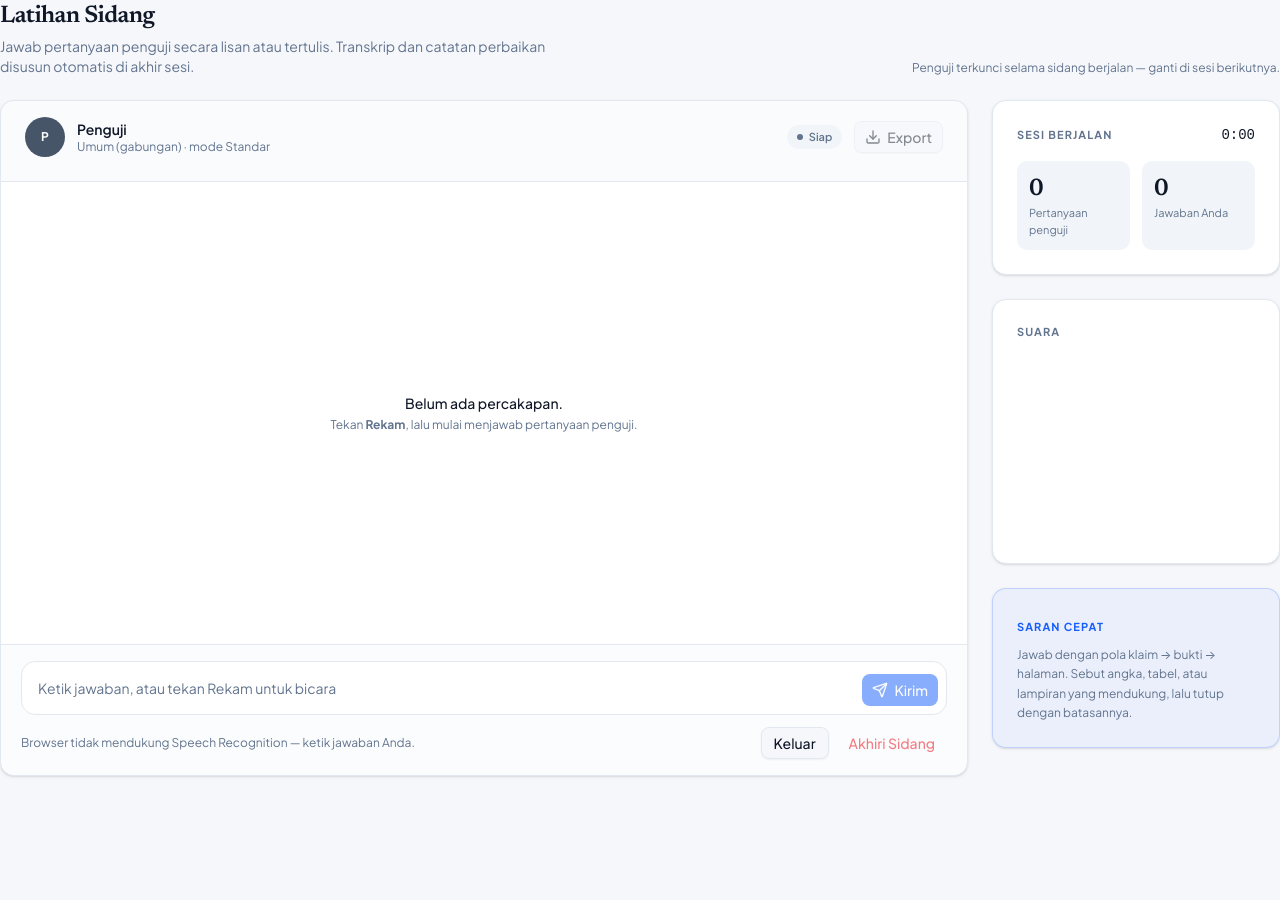
SessionPage › offers closing as a banner, never a modal that covers the examiner's last reply
Type "jawaban" into the text box with placeholder "Ketik jawaban, atau tekan Rekam untuk bicara" at (442, 688), box [30,670,854,706]
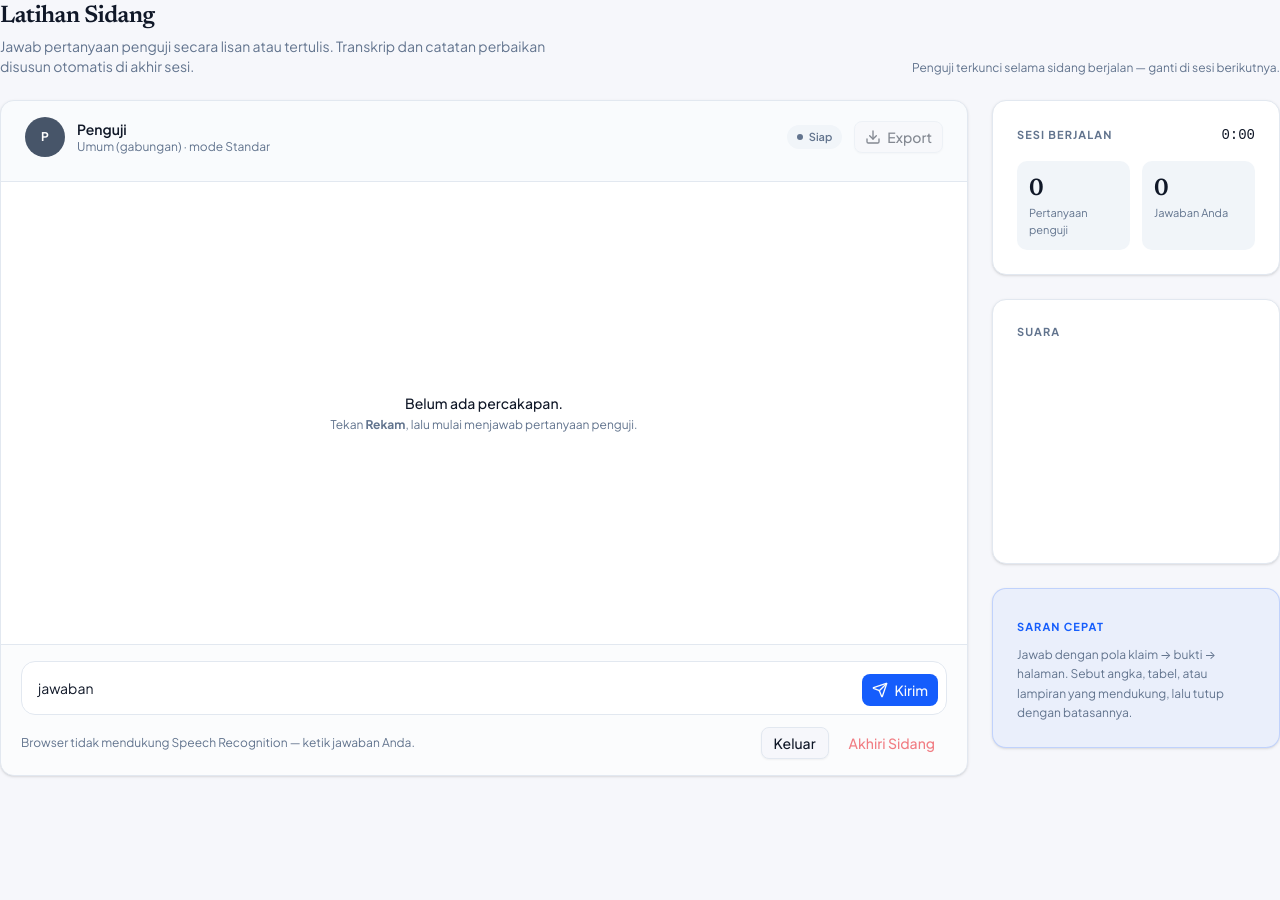
Click the button "Kirim" at (900, 690), box [862,674,938,706]
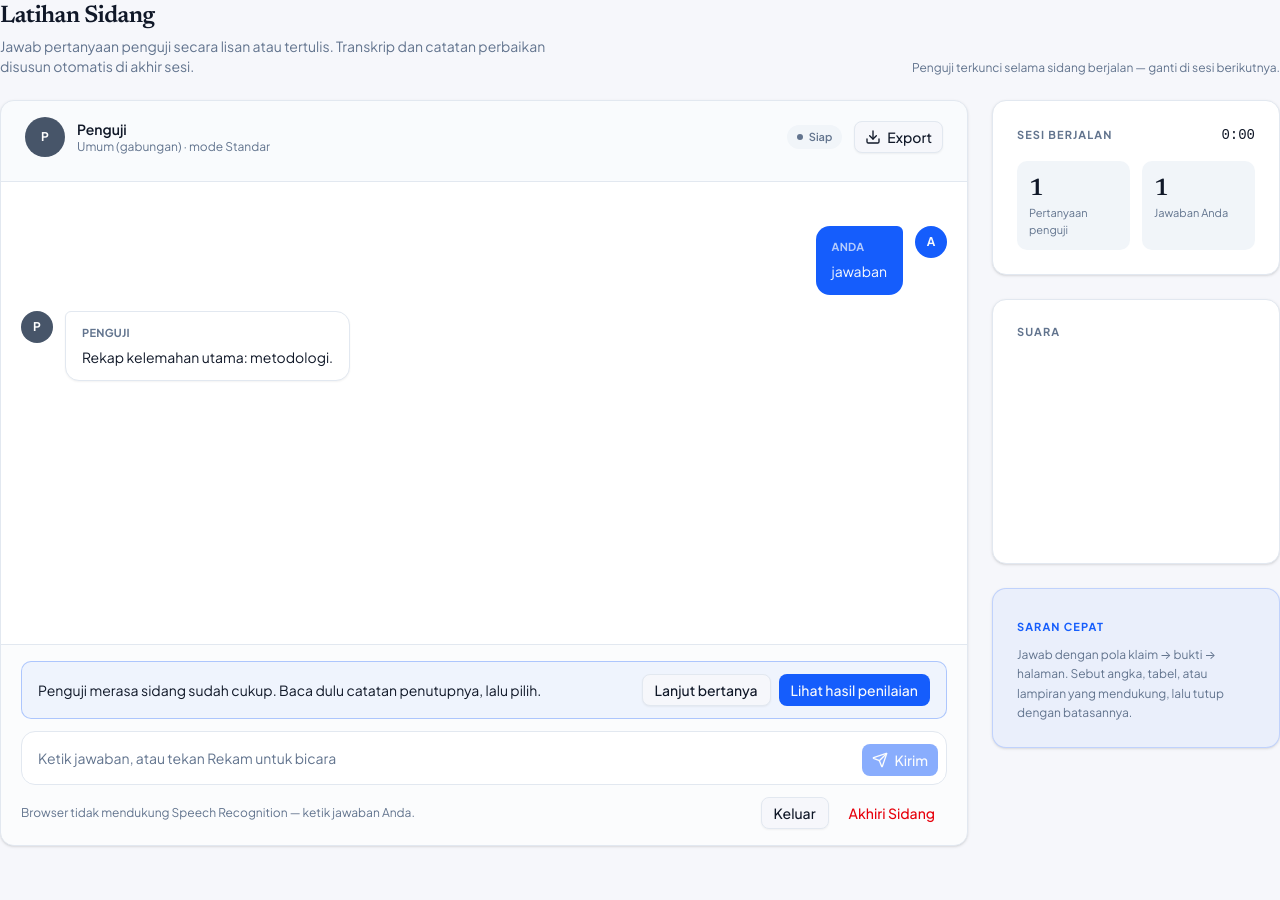
expect the text "Akhiri sidang?" is not shown: met
expect the button "Lanjut bertanya" is shown: met, box [642,674,771,706]
expect the text "Rekap kelemahan utama: metodologi." is shown: met, box [82,346,333,368]
Click the button "Lihat hasil penilaian" at (854, 690), box [778,674,930,706]
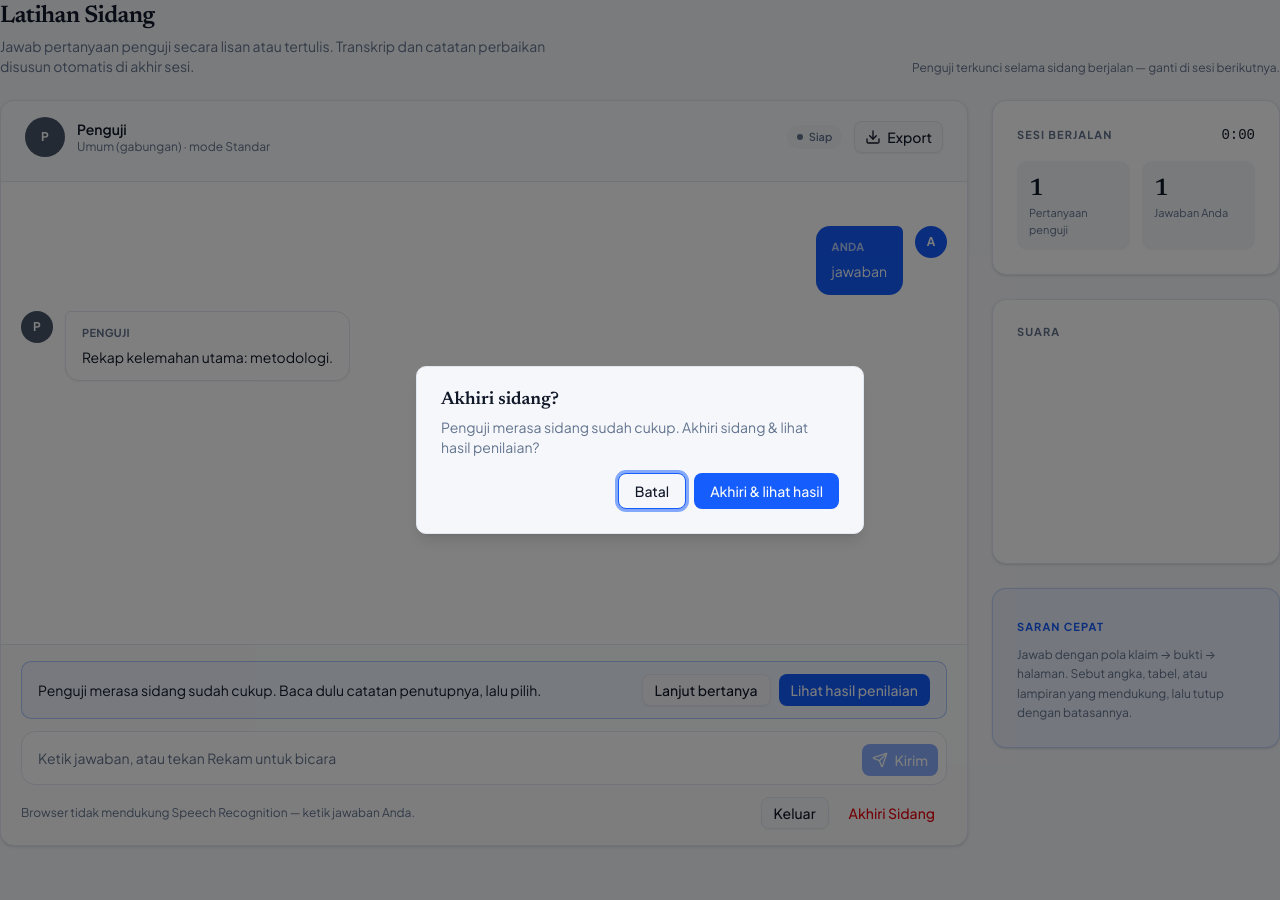
expect the heading "Akhiri sidang?" is shown: met, box [441,391,559,409]
